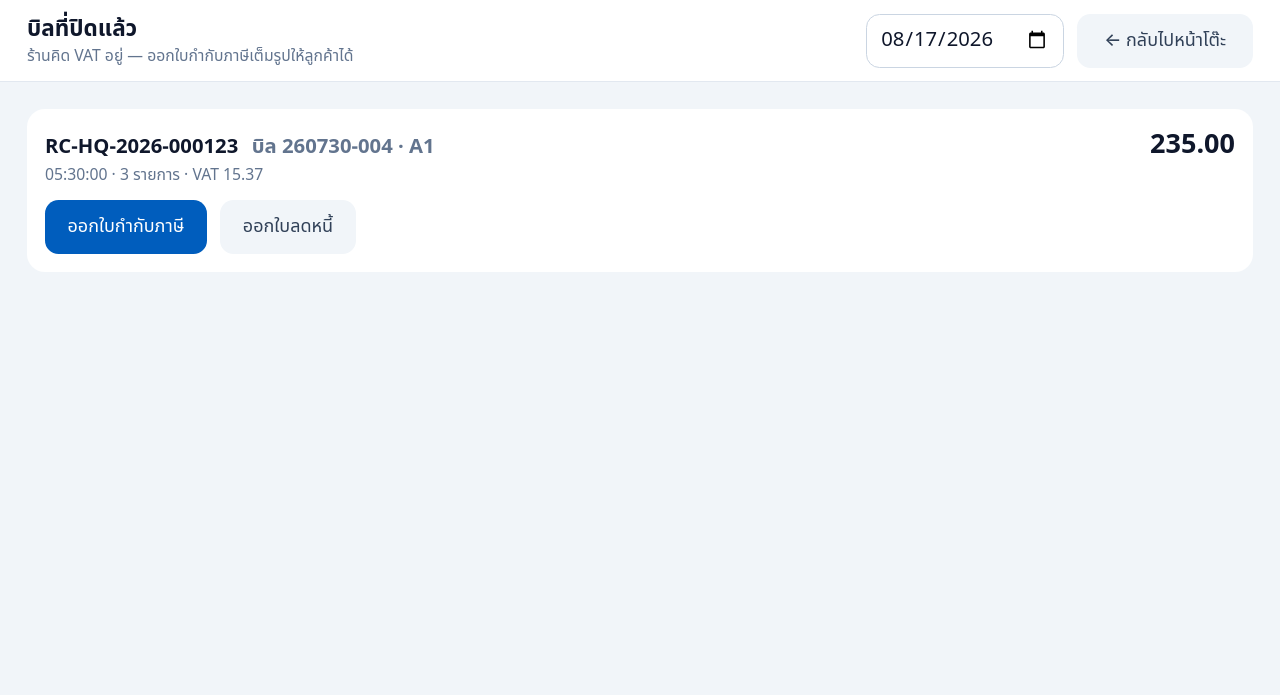
Test: asking for a full tax invoice › refuses to send a tax id whose check digit is wrong
Expected: the text "RC-HQ-2026-000123" is shown, [45,132,238,162]
Click the button "ออกใบกำกับภาษี" at point(126, 226), box [45,200,207,254]
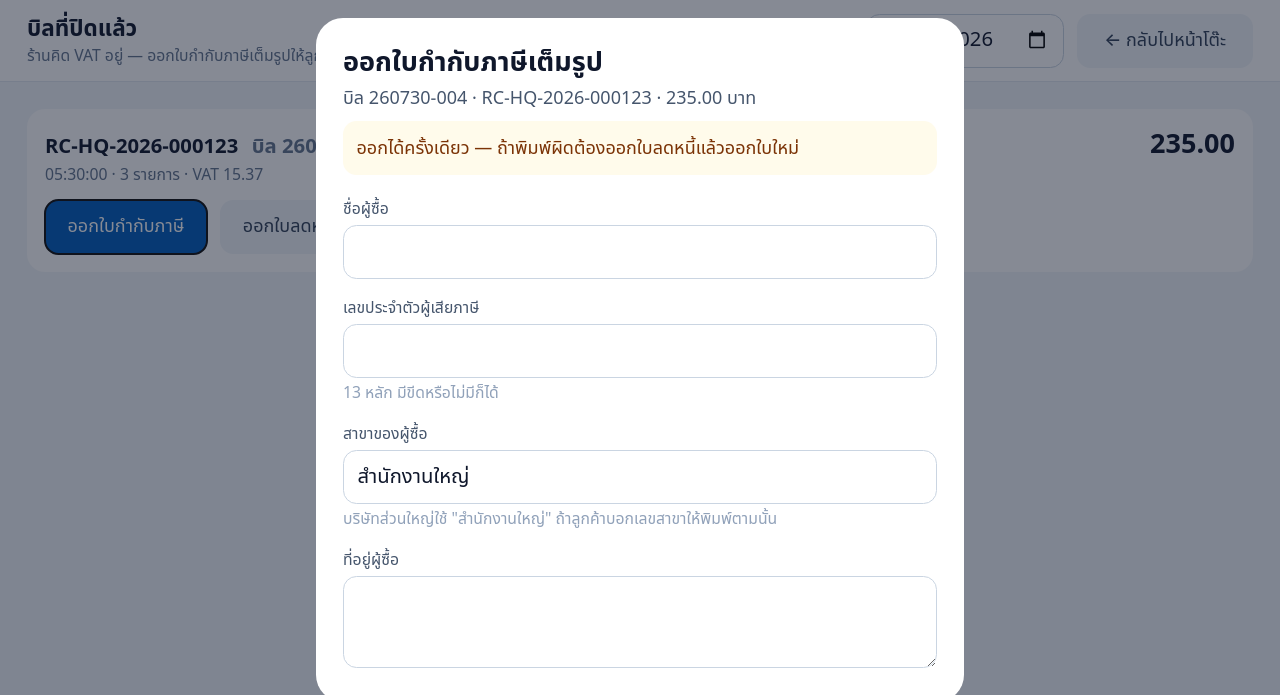
Type "บริษัท ทดสอบ จำกัด" into the field labelled "ชื่อผู้ซื้อ" at point(640, 252), box [343,225,937,279]
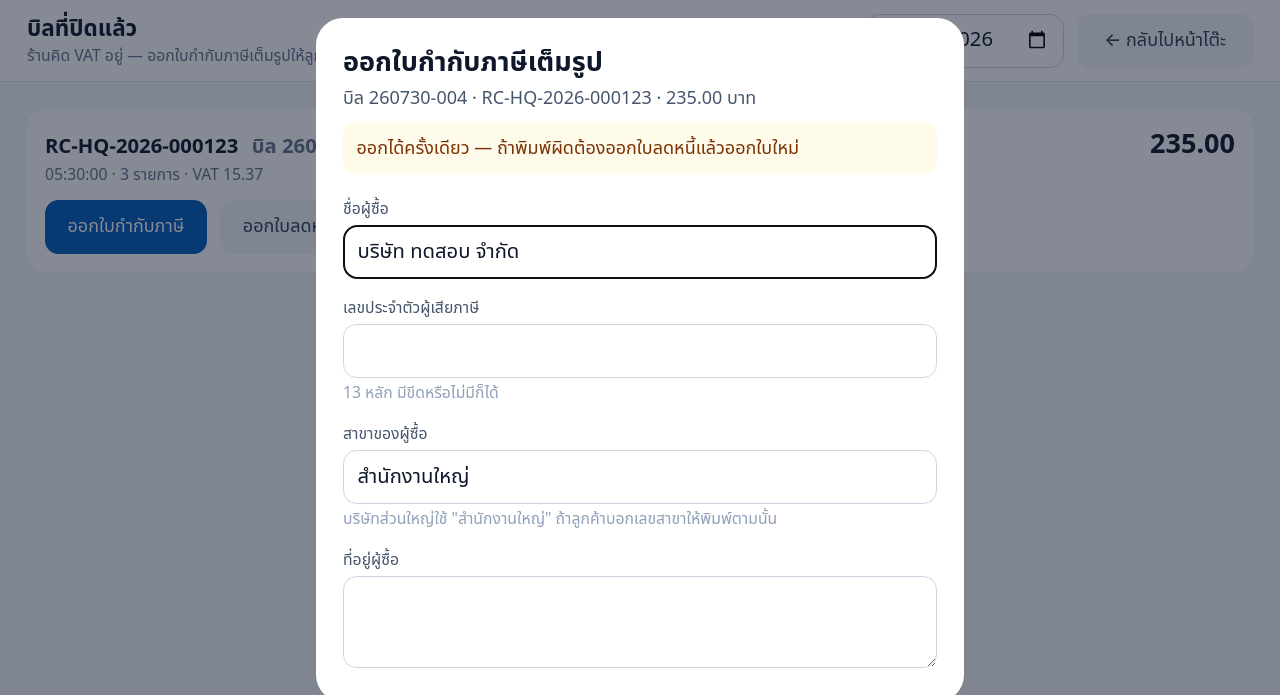
Type "0105558123401" into the field labelled "เลขประจำตัวผู้เสียภาษี 13 หลัก มีขีดหรือไม่มีก็ได้" at point(640, 351), box [343,324,937,378]
(page scrolled)
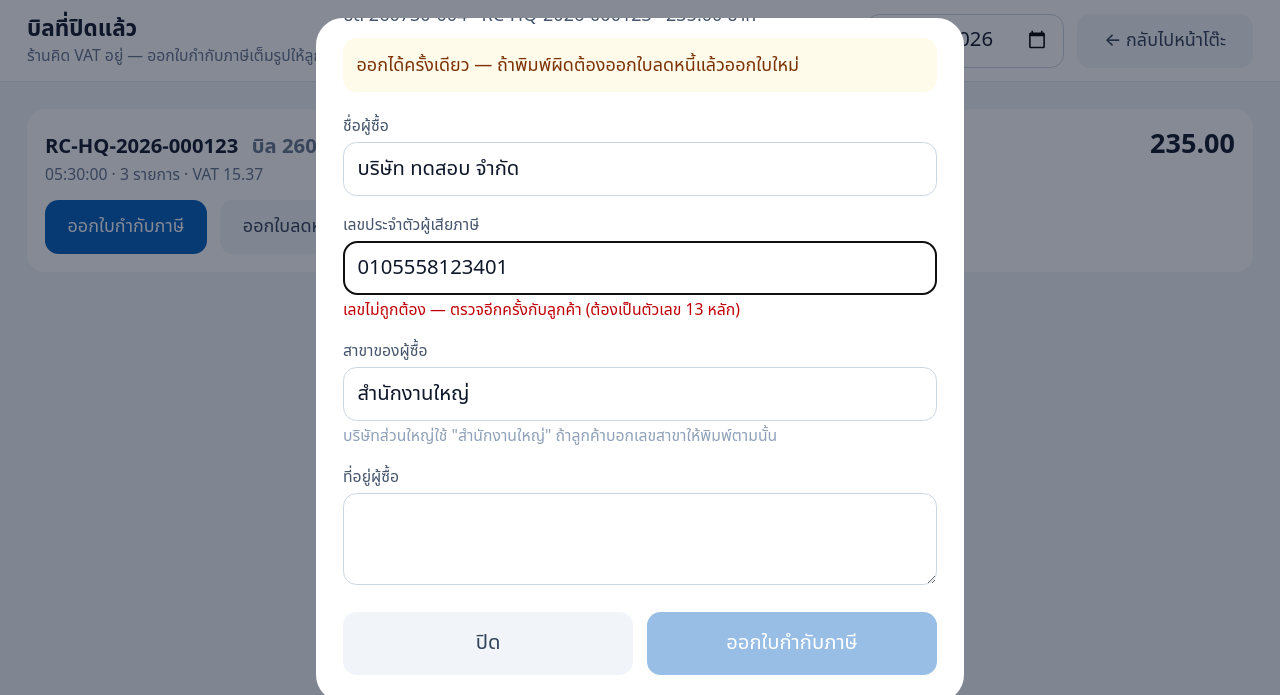
Now the button "ออกใบกำกับภาษี" is disabled, box [647,612,937,675]
Now the text "เลขไม่ถูกต้อง" is shown, box [343,298,740,322]
